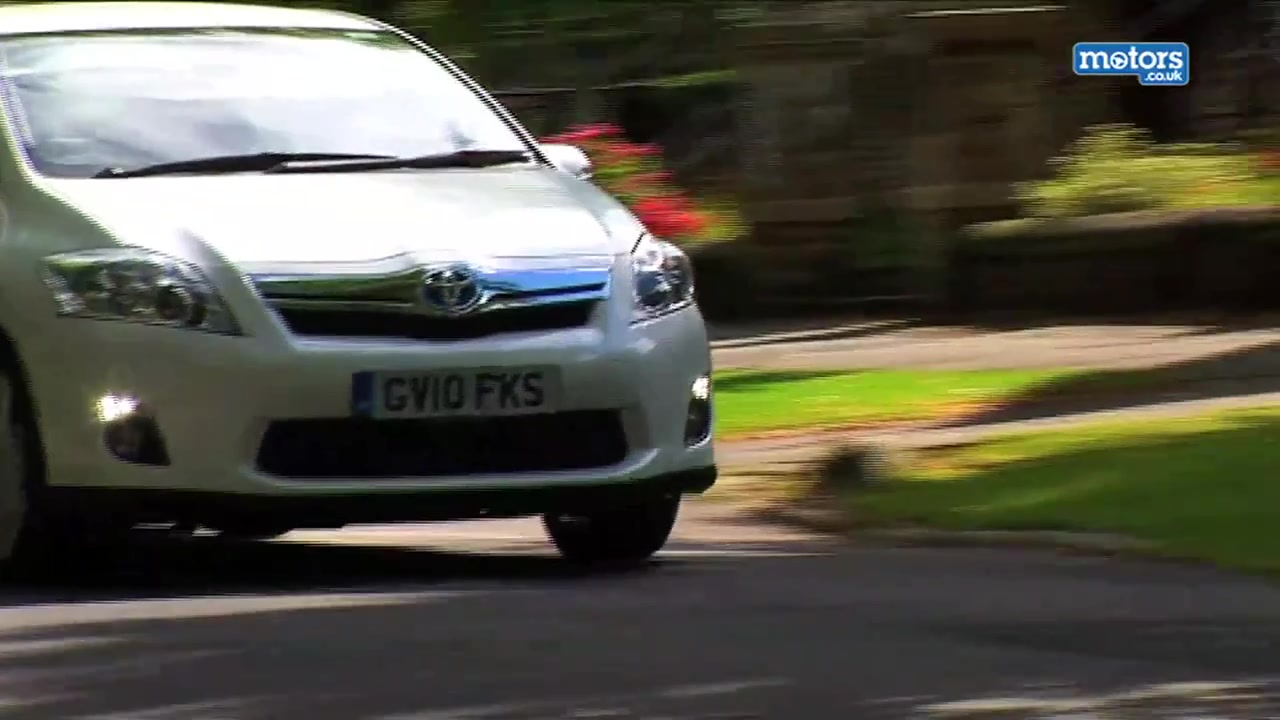car: (1, 1, 714, 592)
